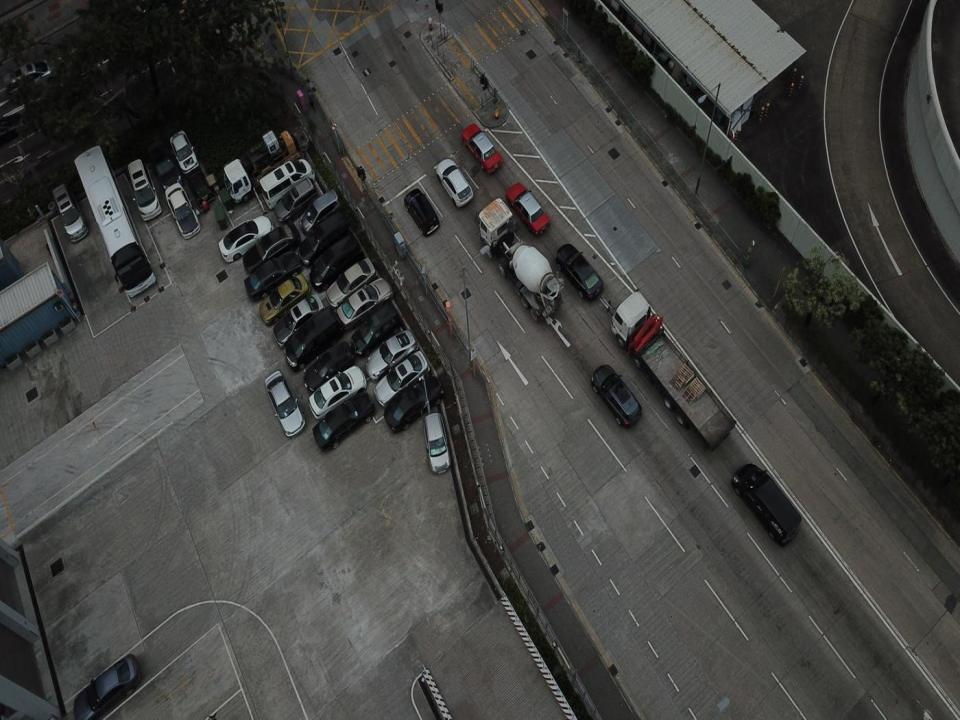bus: (73, 144, 156, 300), (258, 154, 315, 206)
car: (730, 456, 803, 545), (68, 652, 140, 719), (312, 389, 376, 454), (282, 304, 341, 368), (382, 375, 444, 433), (309, 362, 368, 421), (590, 363, 640, 428), (244, 251, 303, 305), (298, 209, 350, 269), (337, 276, 393, 331), (264, 367, 306, 439), (351, 301, 401, 361), (554, 241, 603, 302), (256, 273, 310, 328), (244, 221, 298, 276), (274, 293, 326, 348), (364, 330, 418, 382), (310, 238, 362, 292), (302, 339, 356, 390), (324, 258, 376, 310), (506, 178, 551, 236), (217, 217, 275, 262), (164, 174, 201, 238), (460, 120, 503, 174), (402, 187, 441, 238), (300, 187, 338, 236), (273, 178, 316, 221), (422, 410, 450, 476), (436, 156, 472, 207), (168, 127, 198, 173), (185, 169, 215, 208)
truck: (606, 287, 738, 449), (476, 195, 561, 324), (221, 130, 299, 206)
van: (50, 183, 89, 246), (126, 156, 162, 222), (2, 58, 54, 99)
